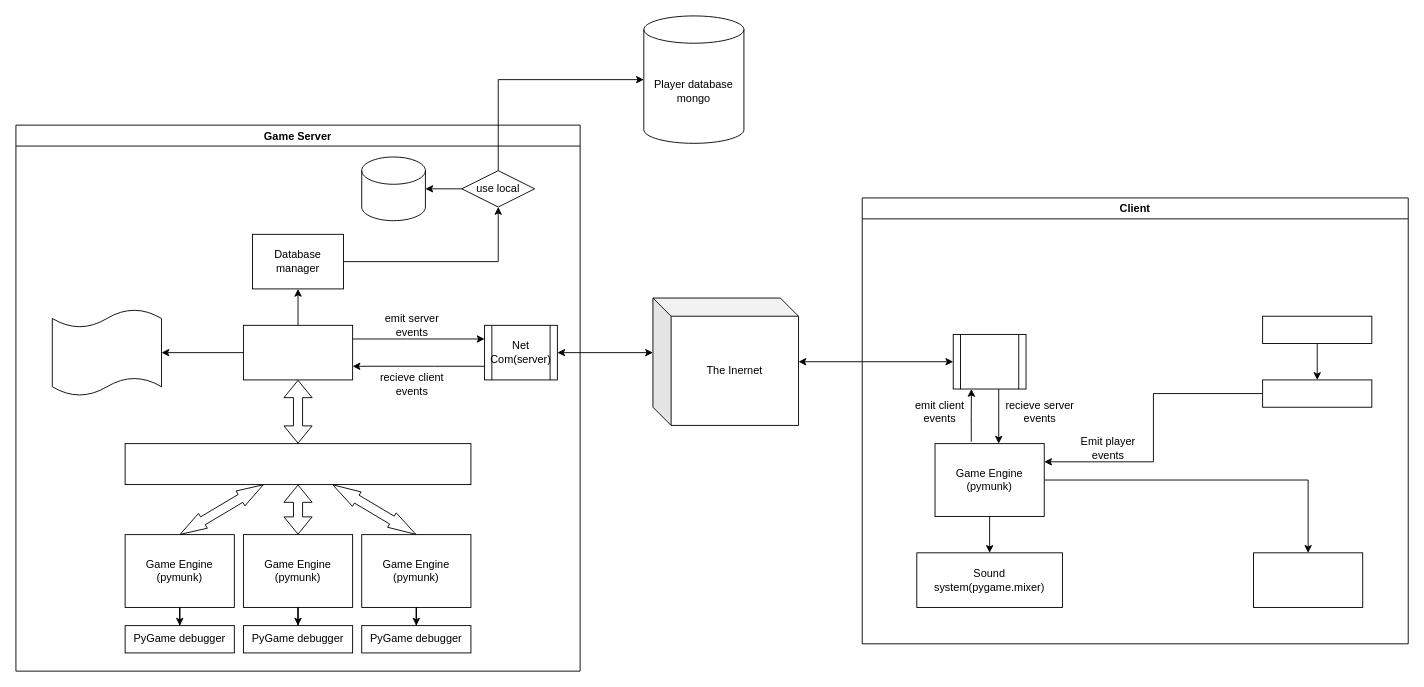
This 1424x687 diagram has some shape labels left out. Here are the shapes that lost their labels. From the top down, the centre of each, then its label:
[393,188]: Local Player database
[1317,329]: Keyboard
[106,352]: log file
[298,352]: Server
[989,361]: Net Com(client)
[1317,393]: Input manager
[297,464]: Instance manager
[1308,579]: Screen
